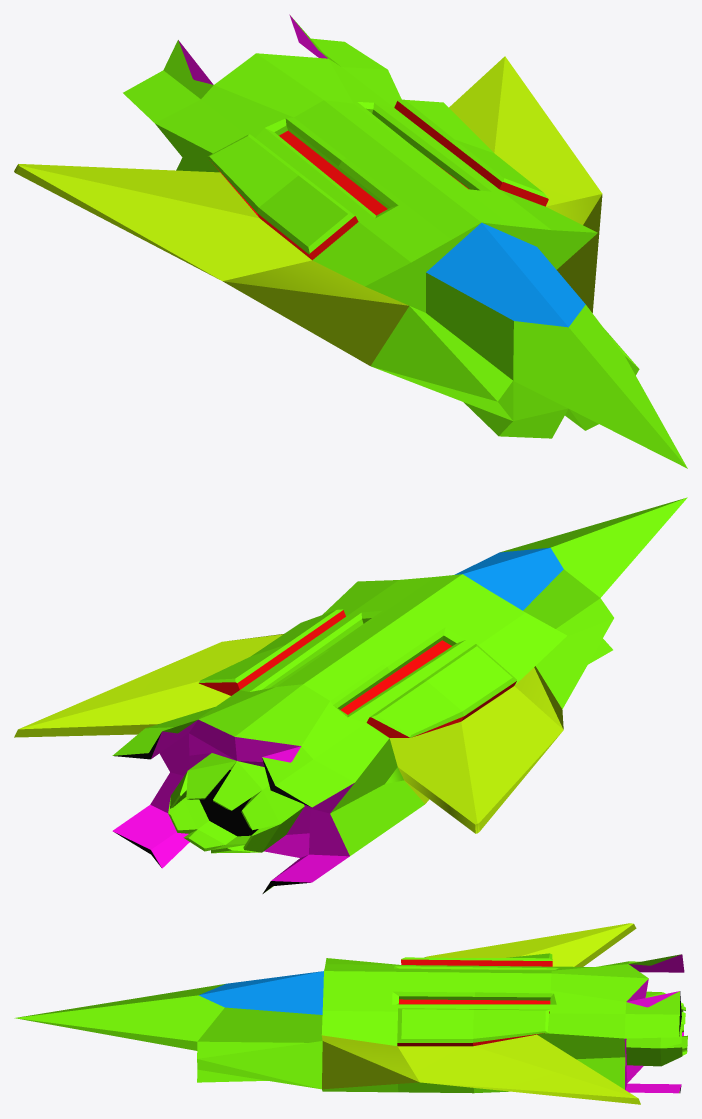
The model's file is FBX_CarREMAKE.fbx.
3 views of the same model, one above another, from view 1: azimuth 30°, elevation 25°; view 2: azimuth 150°, elevation 25°; view 3: azimuth 270°, elevation 25° (orthographic). The views are drawn at different scales.
Parts seen in each view (by area): view 1: Car; view 2: Car; view 3: Car.
Part boxes in pixels (box(x1,y1,x2,y2)): Car: box(14, 14, 687, 468); Car: box(14, 497, 687, 893); Car: box(14, 923, 687, 1104).
Bounding box in the file's own units: 44.65 × 12.76 × 76.17.
